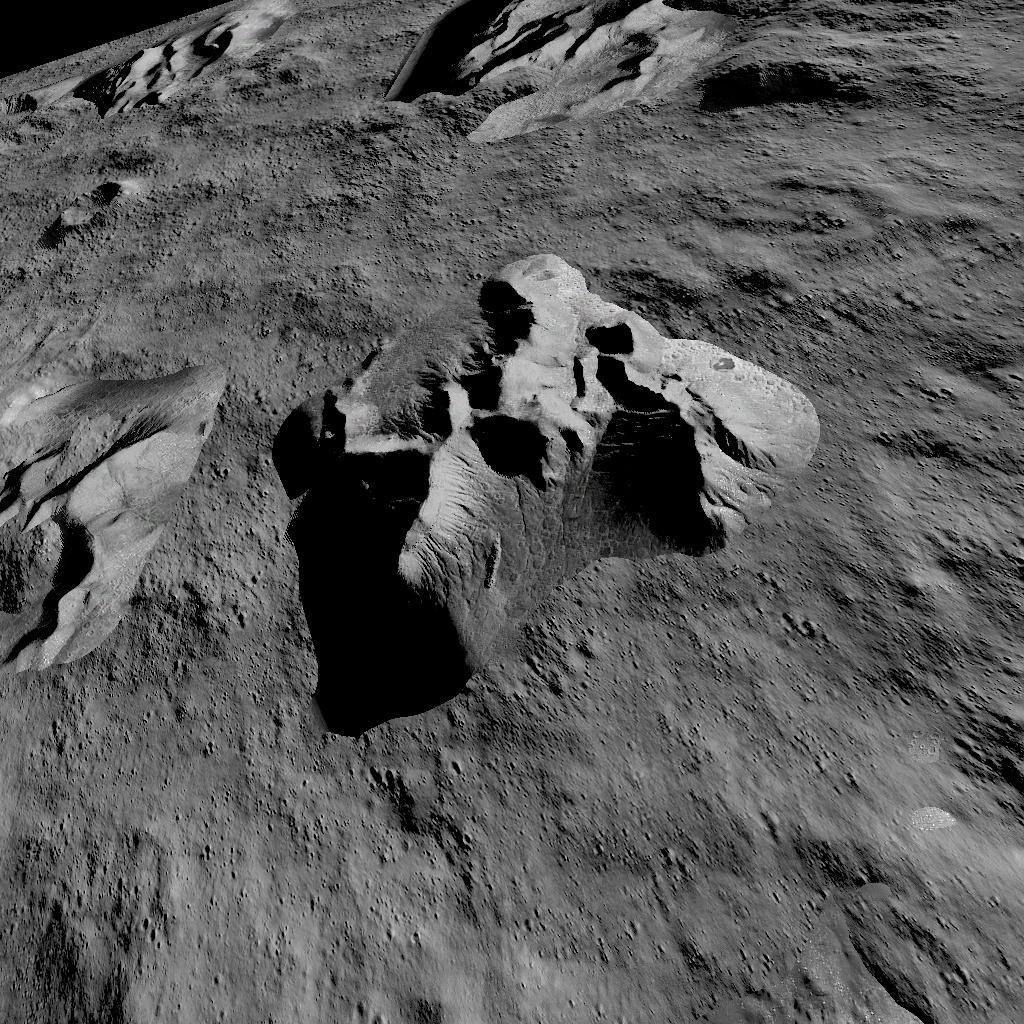Boulders: (270, 248, 824, 735), (2, 350, 222, 671), (388, 0, 706, 146), (64, 4, 257, 118), (717, 0, 870, 120)
Crater: (32, 162, 140, 245), (3, 78, 59, 148), (995, 733, 1024, 831), (270, 60, 322, 94), (877, 1007, 953, 1024)
Plan surface: (5, 761, 972, 994), (845, 234, 1024, 710), (178, 162, 1016, 227), (885, 0, 1024, 141), (0, 256, 249, 322)
